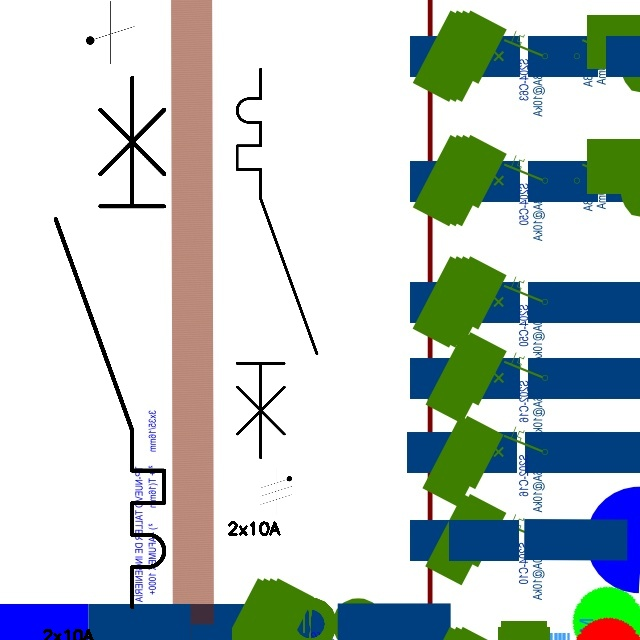interruptor_termomagnetico: (42, 64, 178, 621), (227, 59, 327, 468)
